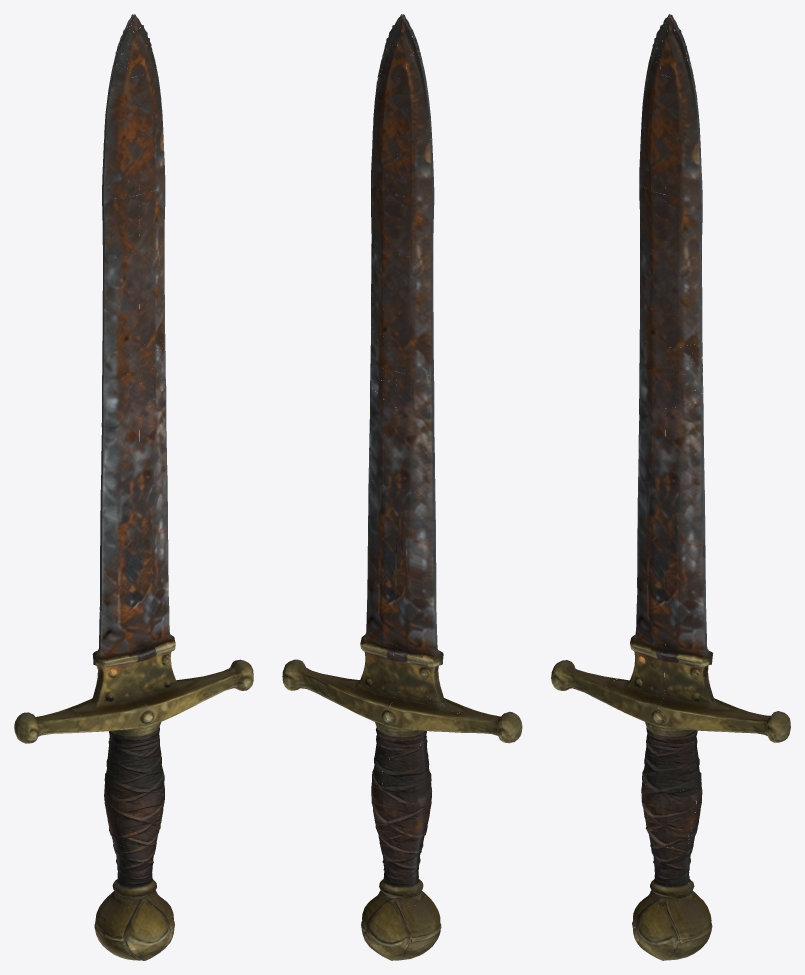
The model's file is w_rust_sword.glb.
3 views of the same model, side by side, from view 1: azimuth 30°, elevation 25°; view 2: azimuth 150°, elevation 25°; view 3: azimuth 330°, elevation 25° (orthographic).
Parts seen in each view (by area): view 1: geometry_0; view 2: geometry_0; view 3: geometry_0.
Part boxes in pixels (left/top/right/bottom): geometry_0: left=14, top=14, right=253, bottom=960; geometry_0: left=282, top=14, right=522, bottom=960; geometry_0: left=551, top=14, right=790, bottom=960.
Size of the model in its own units: 0.2872 by 1.1 by 0.082.
Materials: 1 (1 with a texture image).
